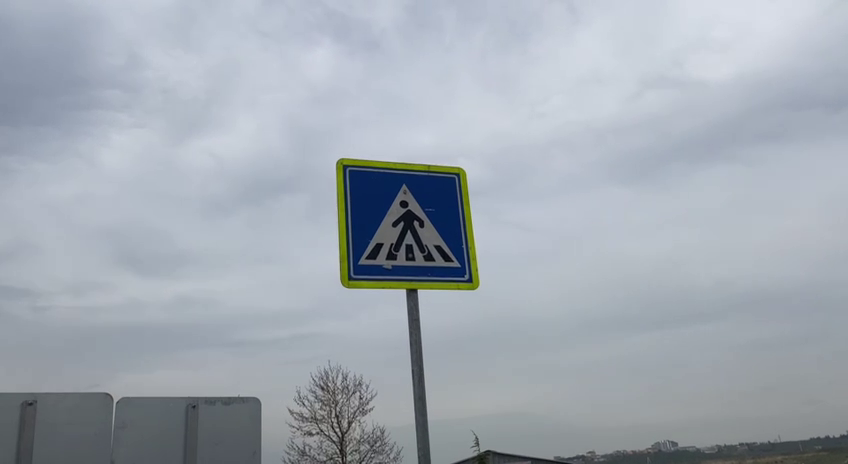pedestrianCrossing: (332, 156, 481, 292)
